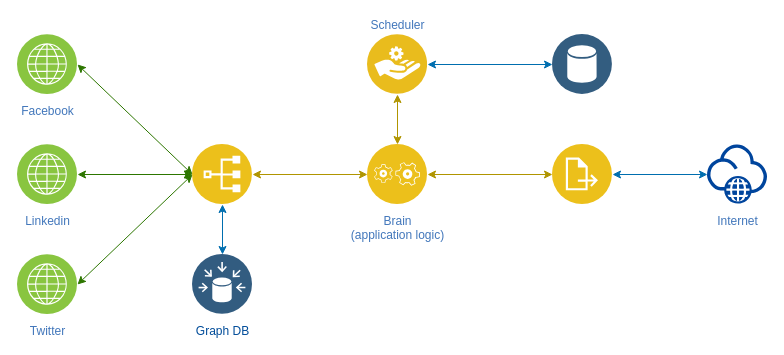
Some shapes in this 784 by 355 pixel diagram are drawn without their labels. The shapes that lost their labels are listed below. From the top down, each one's centre as x and y in pixels, then its label:
[582,64]: Message queue
[222,174]: Scraper
[582,174]: Downloader
